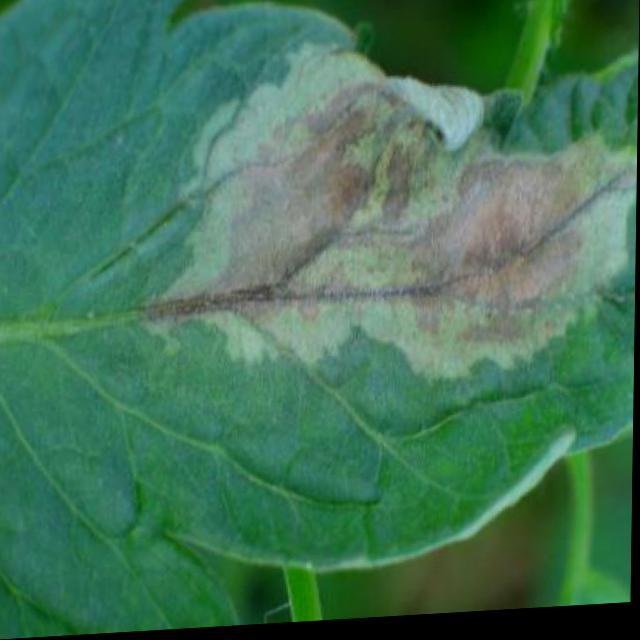Tomato mosaic virus leaf: (0, 0, 639, 598)
